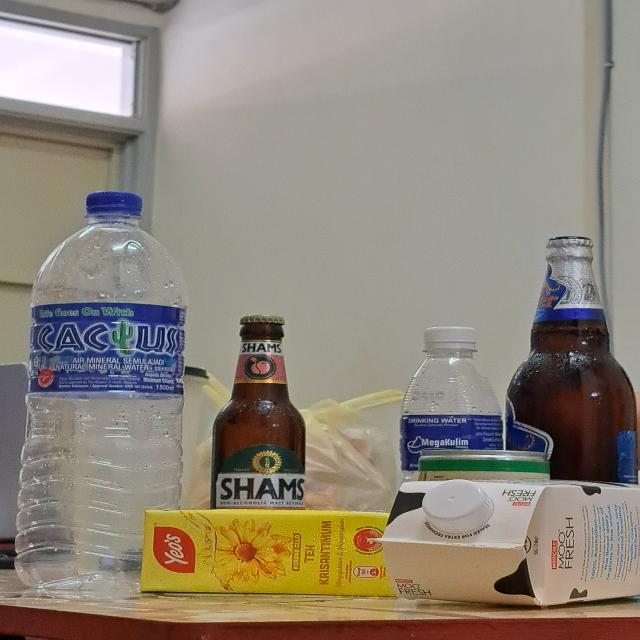drink carton: (379, 484, 640, 608), (141, 507, 396, 597)
glass bottle: (508, 233, 640, 496), (213, 311, 309, 522)
plastic bottle: (23, 224, 200, 602), (403, 323, 510, 507)
plastic bottle cap: (421, 482, 489, 538), (84, 186, 143, 222), (425, 321, 477, 354)
